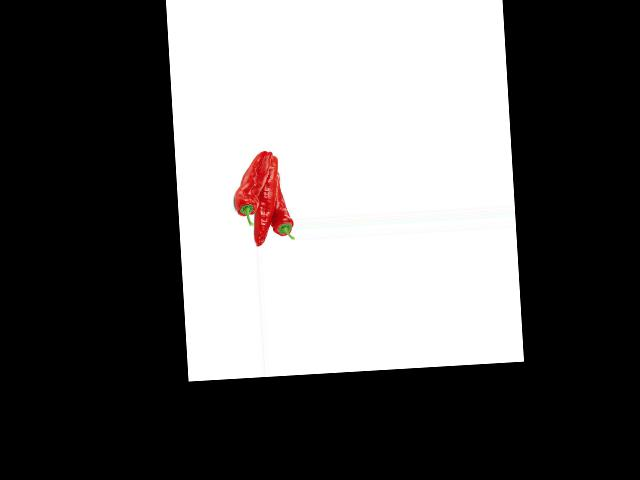bell_pepper: (229, 150, 267, 228)
